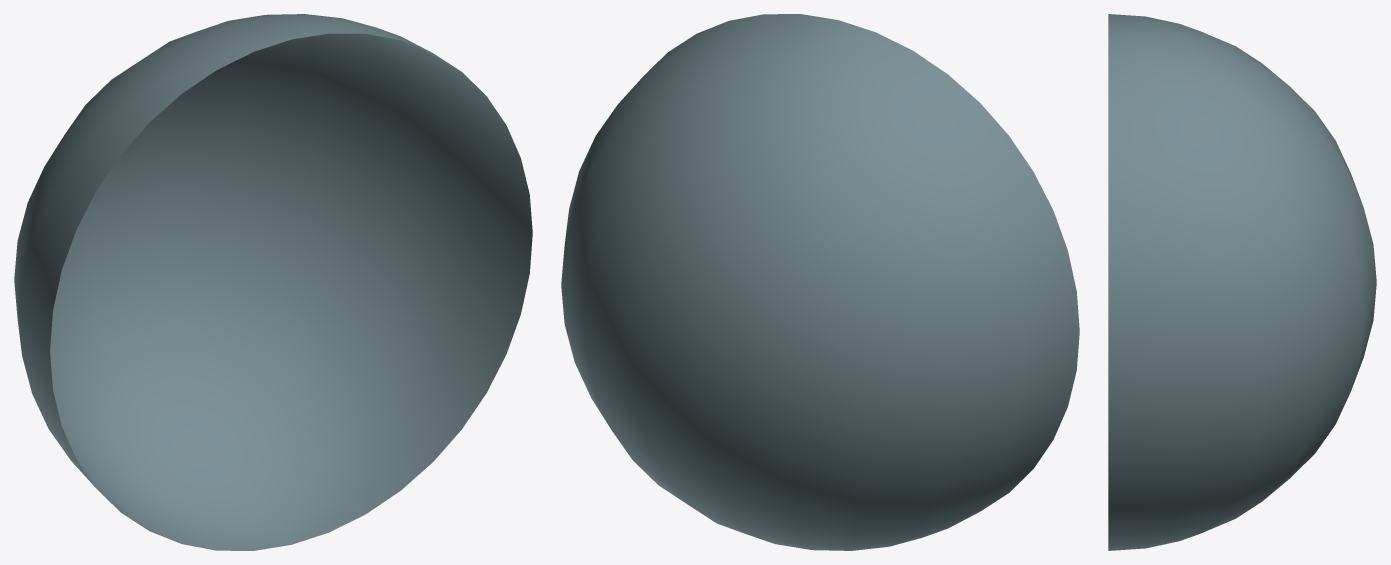
File: fond_idle.fbx
3 views of the same model, side by side, from view 1: azimuth 30°, elevation 25°; view 2: azimuth 150°, elevation 25°; view 3: azimuth 270°, elevation 25° (orthographic). The views are drawn at different scales.
Visible parts, largest first — view 1: pasted__pSphere1; view 2: pasted__pSphere1; view 3: pasted__pSphere1.
Part boxes in pixels (bbox=[...]): pasted__pSphere1: bbox=[14, 14, 532, 550]; pasted__pSphere1: bbox=[561, 14, 1079, 550]; pasted__pSphere1: bbox=[1108, 14, 1376, 550].
Bounding box in the file's own units: 5535 × 5535 × 2768.
